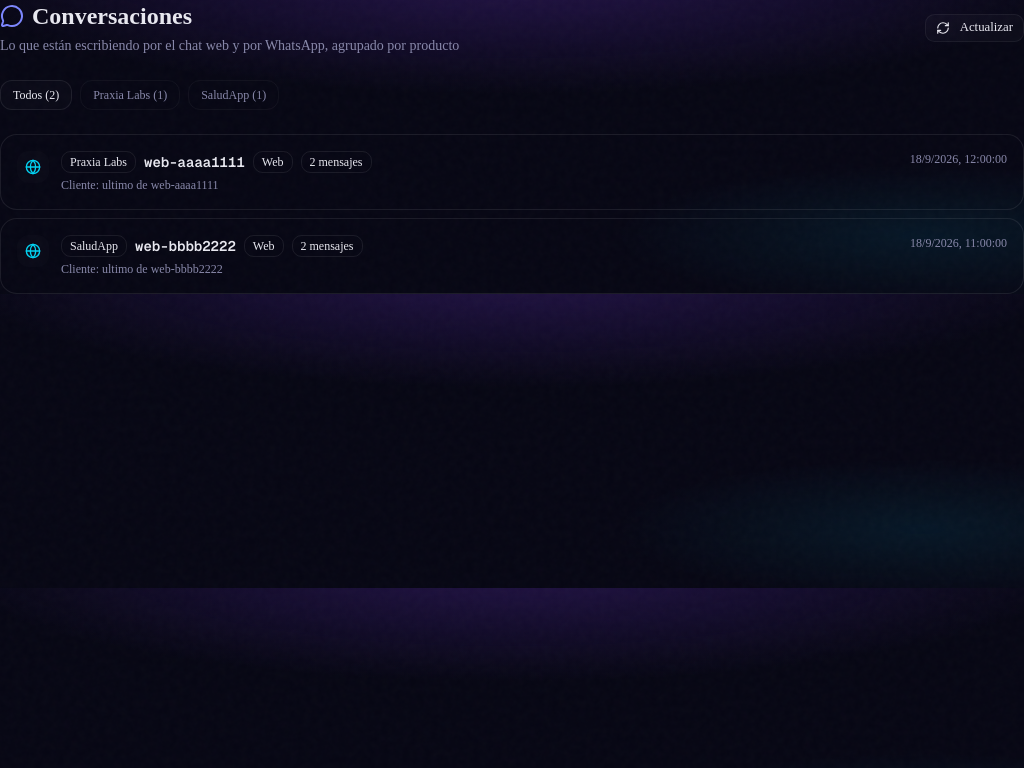
panel de conversaciones › avisa cuando el hilo falla en vez de enseñarlo como vacío
Step 1. Click the text "web-aaaa1111" → click(194, 162), box [144,152,245,172]
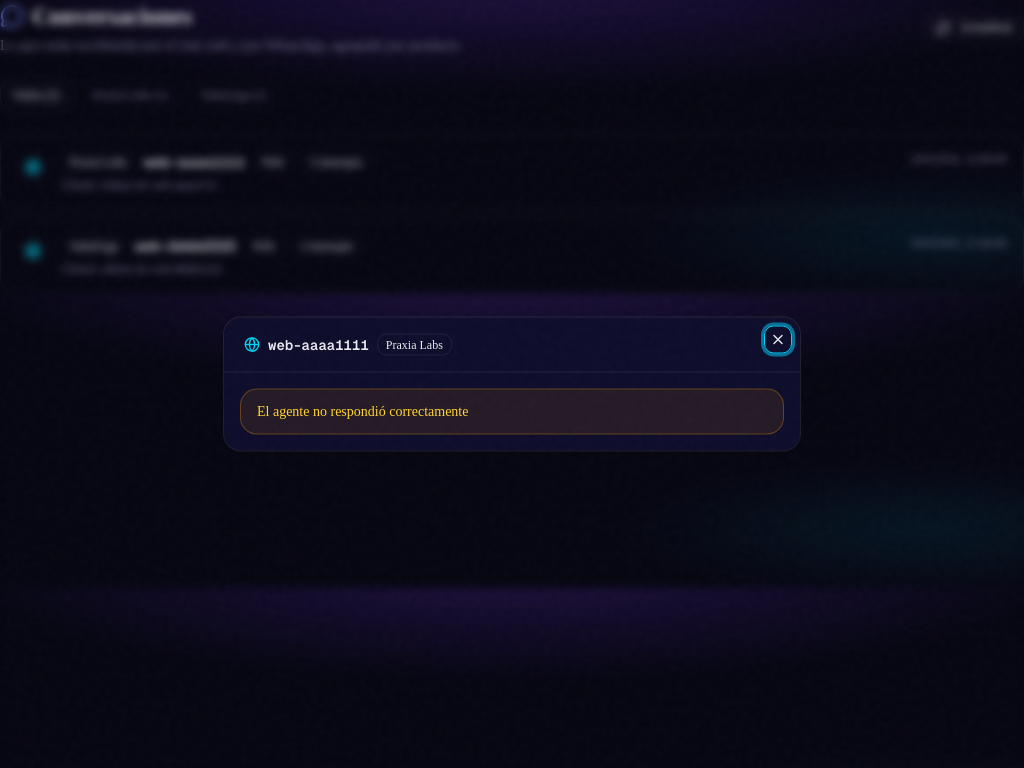
Check: the text "El agente no respondió correctamente" is shown, box [240,388,784,434]
